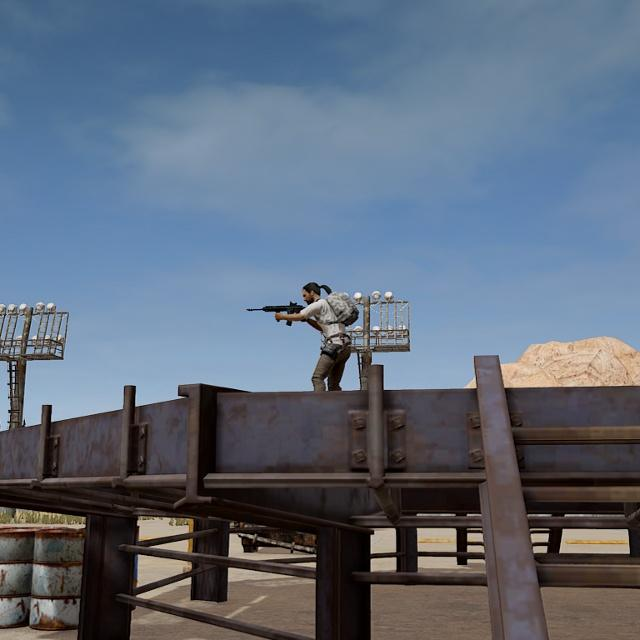head: (297, 277, 329, 311)
people: (274, 274, 365, 392)
